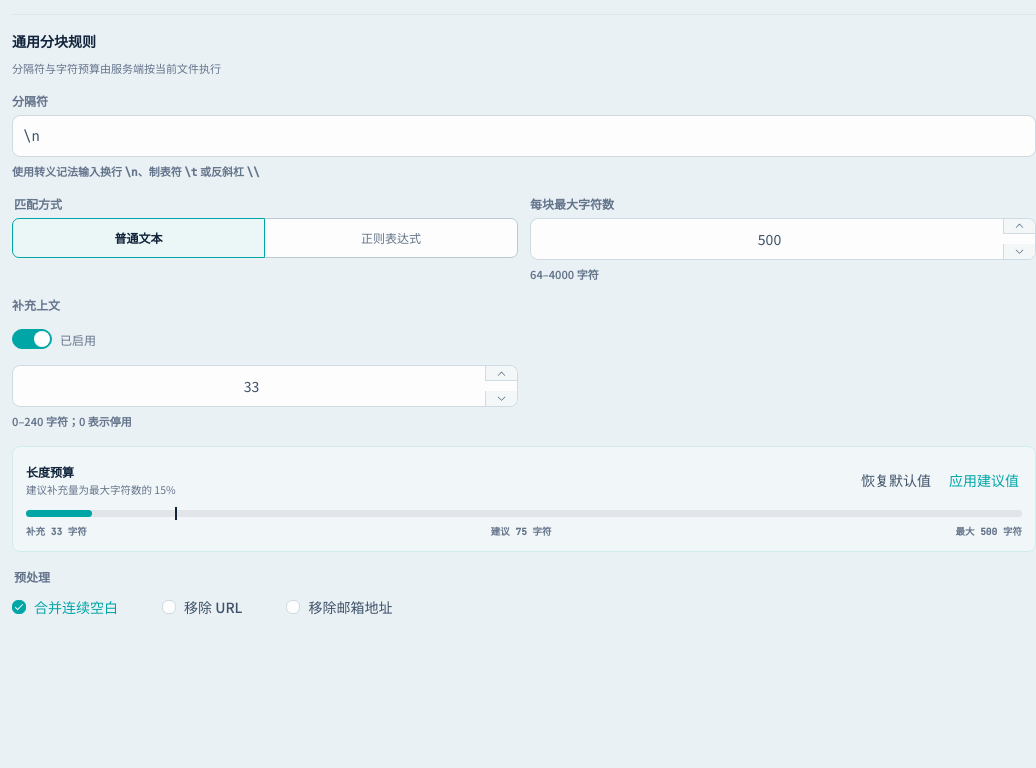
Scenario: GeneralStrategyConfig › uses descriptor context bounds and can restore the descriptor default
Click the button with test id "reset-overlap-default" at {"x": 896, "y": 480}, box [858, 460, 934, 500]
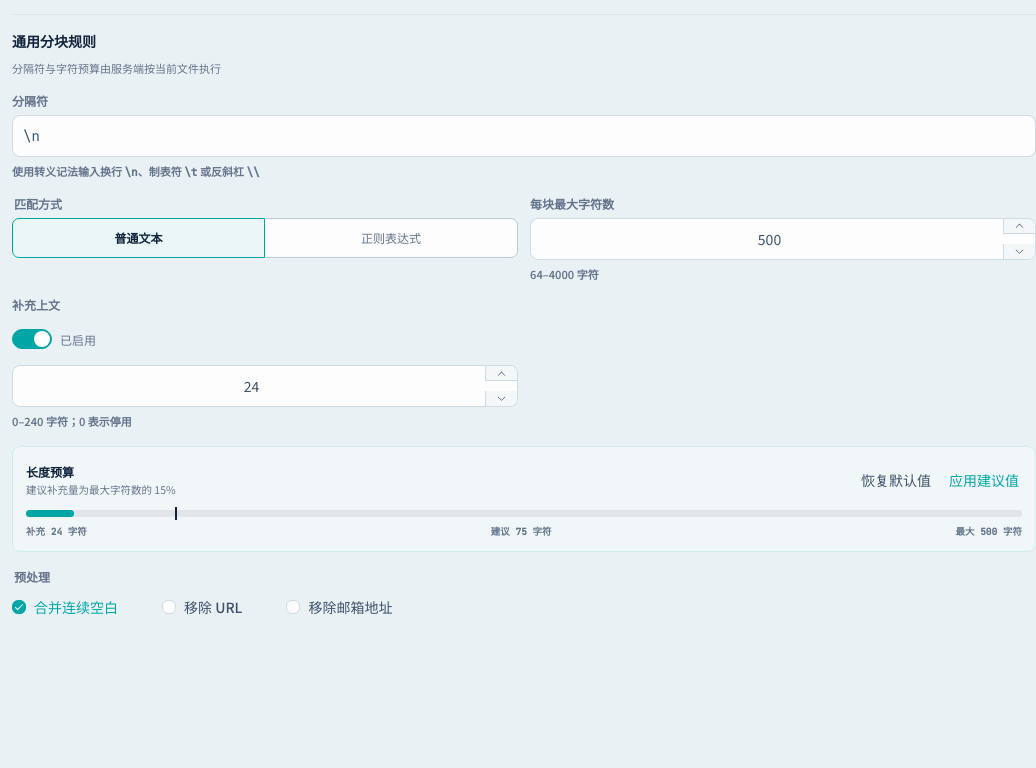
Expected: the 2nd number field holds "24", [27, 366, 476, 406]
